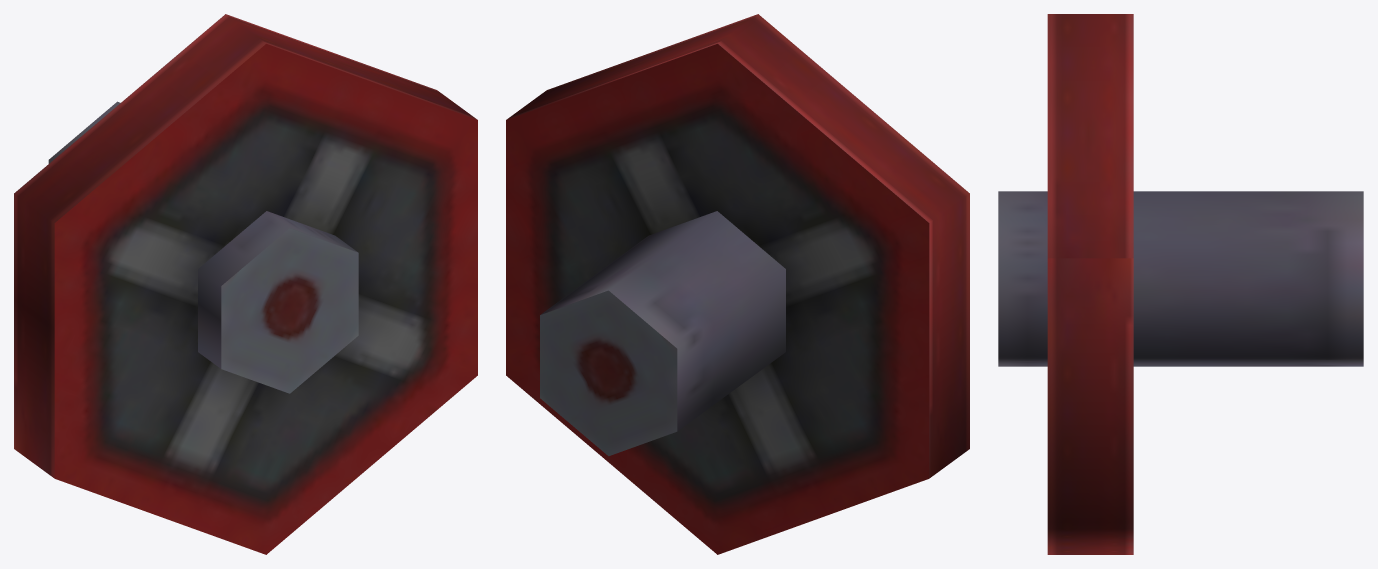
The model's file is action_08_4c43903b__zombies2_diffuse_07_65562b6b_c1f257.obj.
3 renders of one model, left to right at view 1: azimuth 30°, elevation 25°; view 2: azimuth 150°, elevation 25°; view 3: azimuth 270°, elevation 25°, orthographic. The views are drawn at different scales.
Size of the model in its own units: 1.36 by 1.57 by 0.9629.
1 material, 1 textured.
